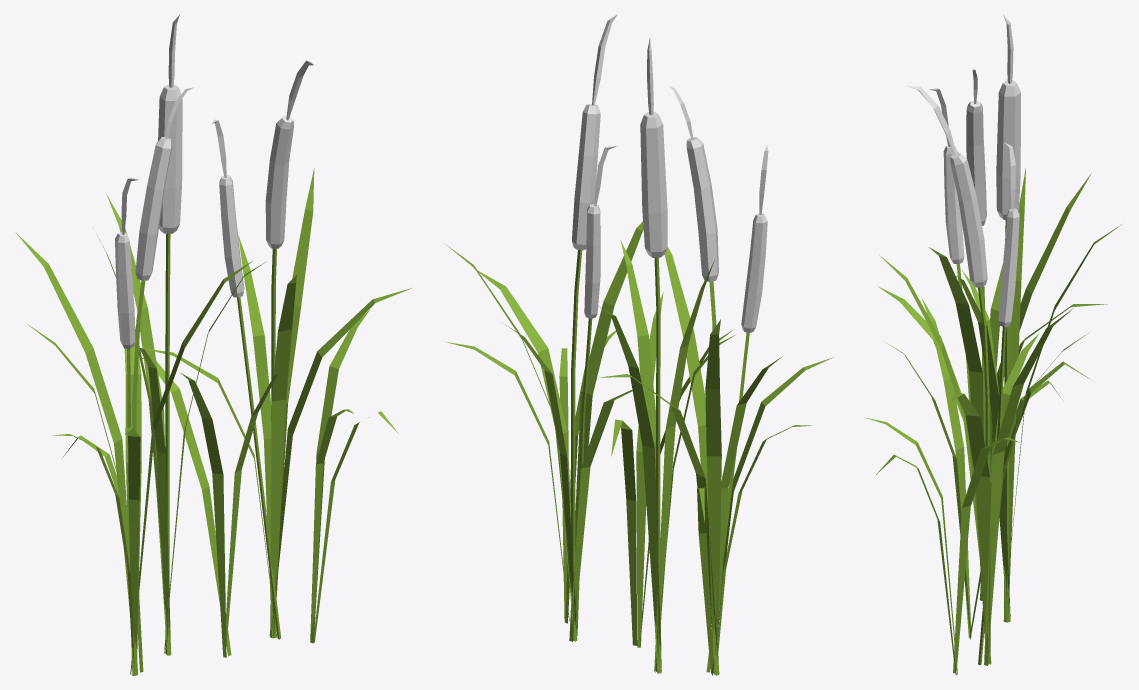
Rendered from SM_Cattail_Group_A.fbx.
3 views of the same model, side by side, from view 1: azimuth 30°, elevation 25°; view 2: azimuth 150°, elevation 25°; view 3: azimuth 270°, elevation 25° (orthographic). The views are drawn at different scales.
Parts seen in each view (by area): view 1: cattail-group-a; view 2: cattail-group-a; view 3: cattail-group-a.
Boxes of the visible parts, left/top/right/bottom form: cattail-group-a: left=15, top=14, right=411, bottom=675; cattail-group-a: left=444, top=14, right=833, bottom=675; cattail-group-a: left=865, top=14, right=1121, bottom=675.
Size of the model in its own units: 1.18 by 2.03 by 0.788.
